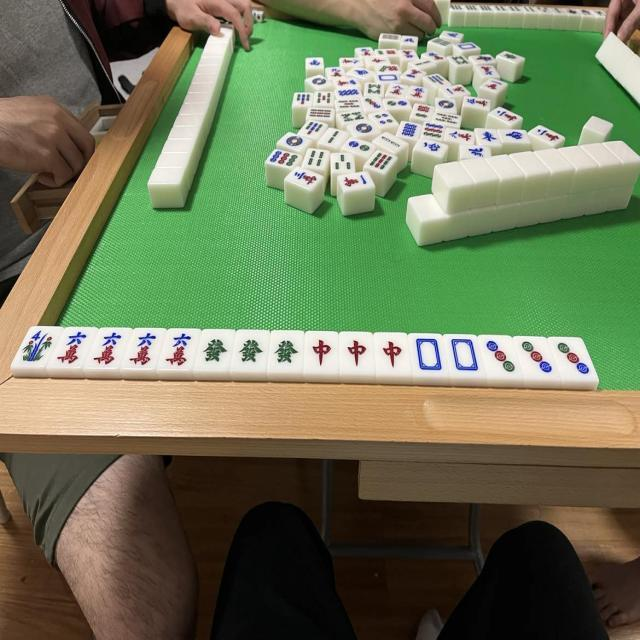bf4: (20, 327, 55, 368)
hdg: (272, 333, 302, 370), (200, 332, 230, 369), (236, 332, 265, 370)
hdr: (376, 336, 406, 374), (308, 334, 336, 374), (344, 334, 371, 372)
hdw: (448, 336, 479, 376), (412, 334, 442, 374)
sc6: (57, 329, 89, 369), (92, 330, 124, 368), (164, 330, 194, 370), (130, 332, 158, 371)
sd3: (555, 338, 592, 378), (518, 338, 554, 378), (484, 338, 516, 376)
